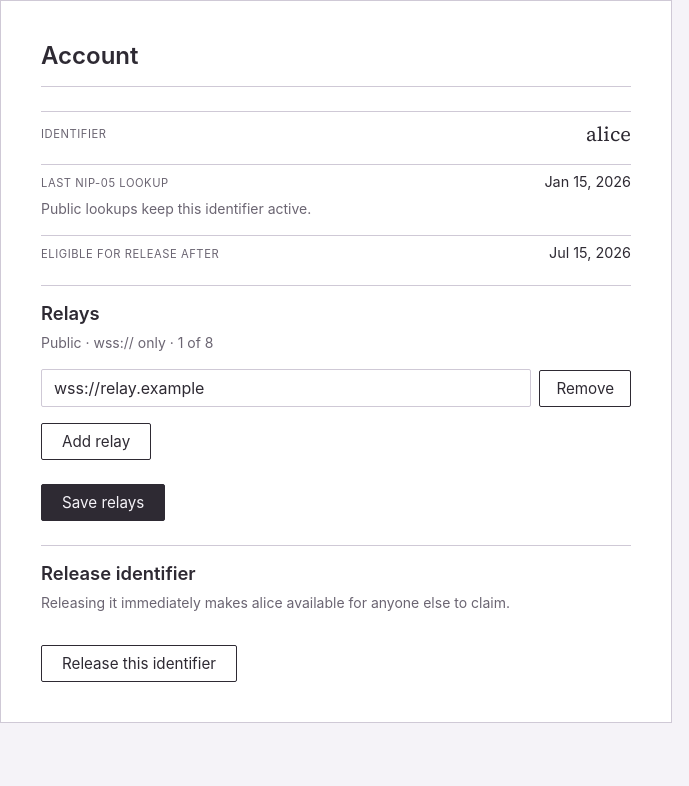
Test: account relay editor › clears a row error when adding a relay
Click the button "Save relays" at (103, 502), box top-left (41, 484), bottom-right (165, 521)
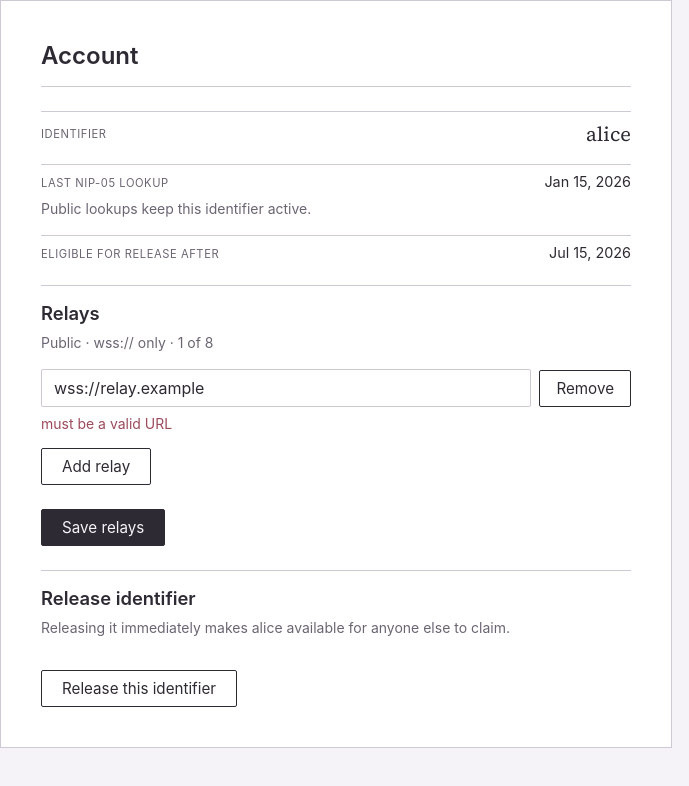
Result: the message "must be a valid URL" is shown at top-left (41, 415), bottom-right (172, 432)
Click the button "Add relay" at (96, 466), box top-left (41, 448), bottom-right (151, 485)
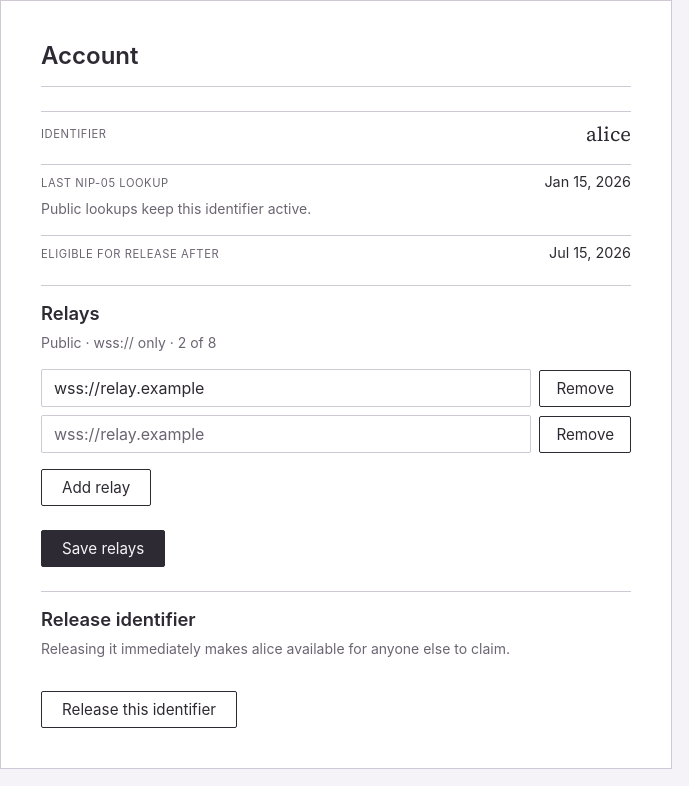
Result: the message with id "relay-0-error" is gone
